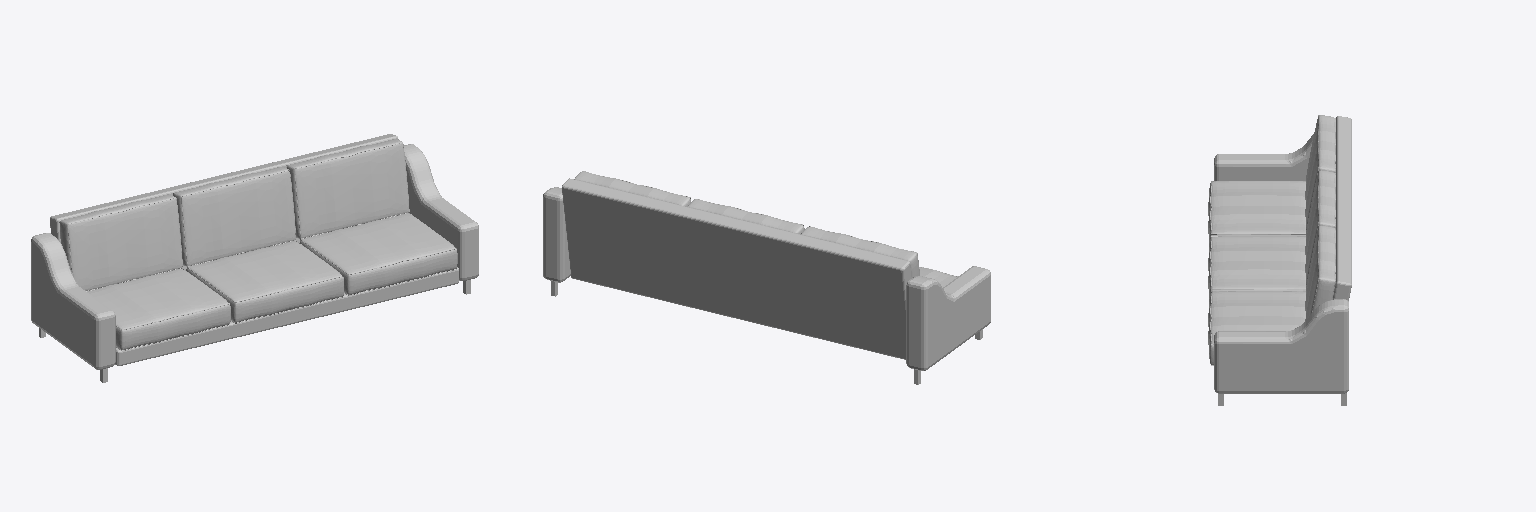
Rendered from Frielander Assets.obj.
3 renders of one model, left to right at view 1: azimuth 30°, elevation 25°; view 2: azimuth 150°, elevation 25°; view 3: azimuth 270°, elevation 25°, orthographic.
Visible parts, largest first — view 1: Couch_25k_Plane.016; view 2: Couch_25k_Plane.016; view 3: Couch_25k_Plane.016.
Boxes of the visible parts, <box> form: Couch_25k_Plane.016: <box>31,134,478,382</box>; Couch_25k_Plane.016: <box>543,171,990,384</box>; Couch_25k_Plane.016: <box>1208,115,1351,405</box>.
Bounding box in the file's own units: 2.75 × 0.8176 × 0.8914.